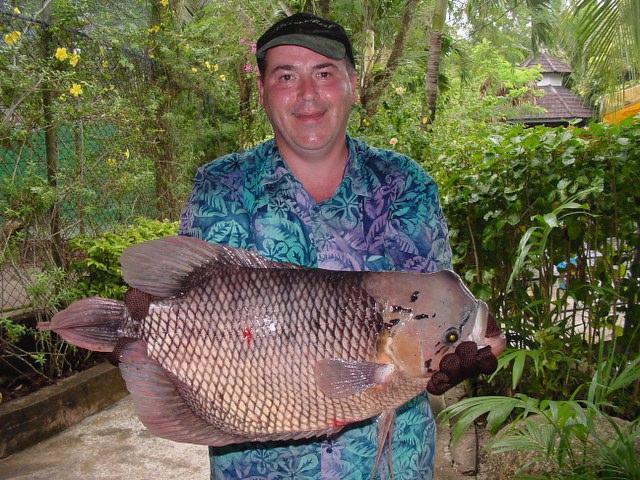Mulut: (444, 288, 528, 359)
Sirip Dada: (292, 338, 403, 412)
Sirip Ekor: (23, 272, 144, 366)
Sirip Punggung: (101, 214, 297, 306)
